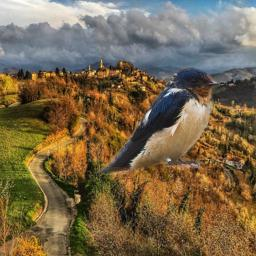Swallow: (97, 66, 221, 176)
